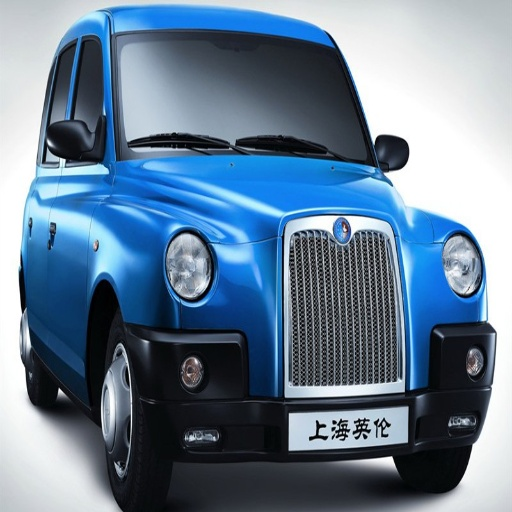front_bumper: (129, 217, 492, 454)
front_glass: (113, 30, 374, 165)
front_right_door: (44, 28, 108, 348)
front_right_light: (166, 245, 212, 300), (444, 236, 480, 294)
hood: (138, 149, 396, 239)
